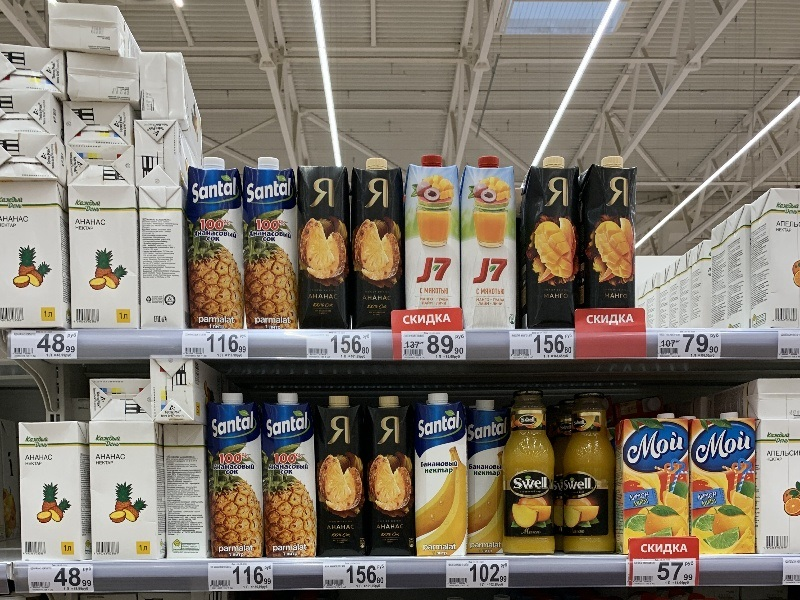juice: (234, 155, 311, 334), (287, 153, 360, 337), (456, 153, 527, 339), (682, 410, 767, 561), (512, 153, 582, 334), (184, 158, 254, 336), (341, 150, 409, 332), (201, 390, 271, 564), (410, 392, 476, 570), (615, 409, 695, 547), (398, 150, 465, 311), (257, 393, 319, 563), (579, 151, 642, 316), (315, 390, 375, 563), (365, 390, 419, 566)
